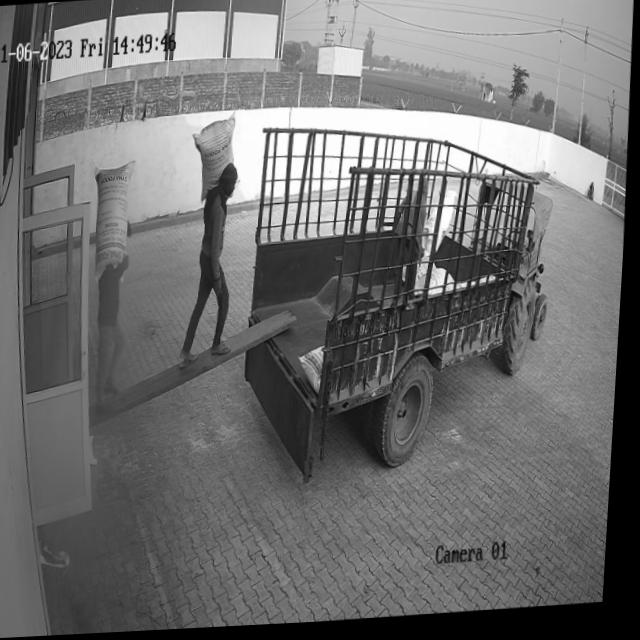sack: (92, 162, 138, 274), (191, 114, 238, 204)
